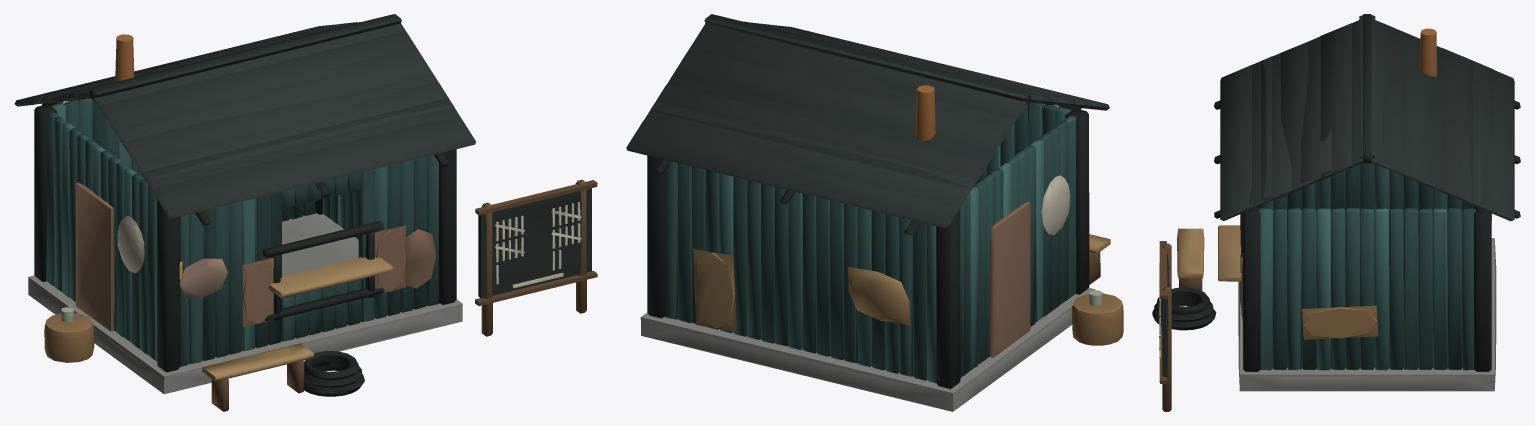
File: billing_booth_a_lod1.glb
3 renders of one model, left to right at view 1: azimuth 30°, elevation 25°; view 2: azimuth 150°, elevation 25°; view 3: azimuth 270°, elevation 25°, orthographic. The views are drawn at different scales.
Parts seen in each view (by area): view 1: Surface.001; view 2: Surface.001; view 3: Surface.001.
Boxes of the visible parts, x1=… form: Surface.001: x1=14, y1=14, x2=597, y2=411; Surface.001: x1=626, y1=14, x2=1123, y2=411; Surface.001: x1=1152, y1=14, x2=1520, y2=411.
Size of the model in its own units: 7.34 by 4.1 by 5.42.
